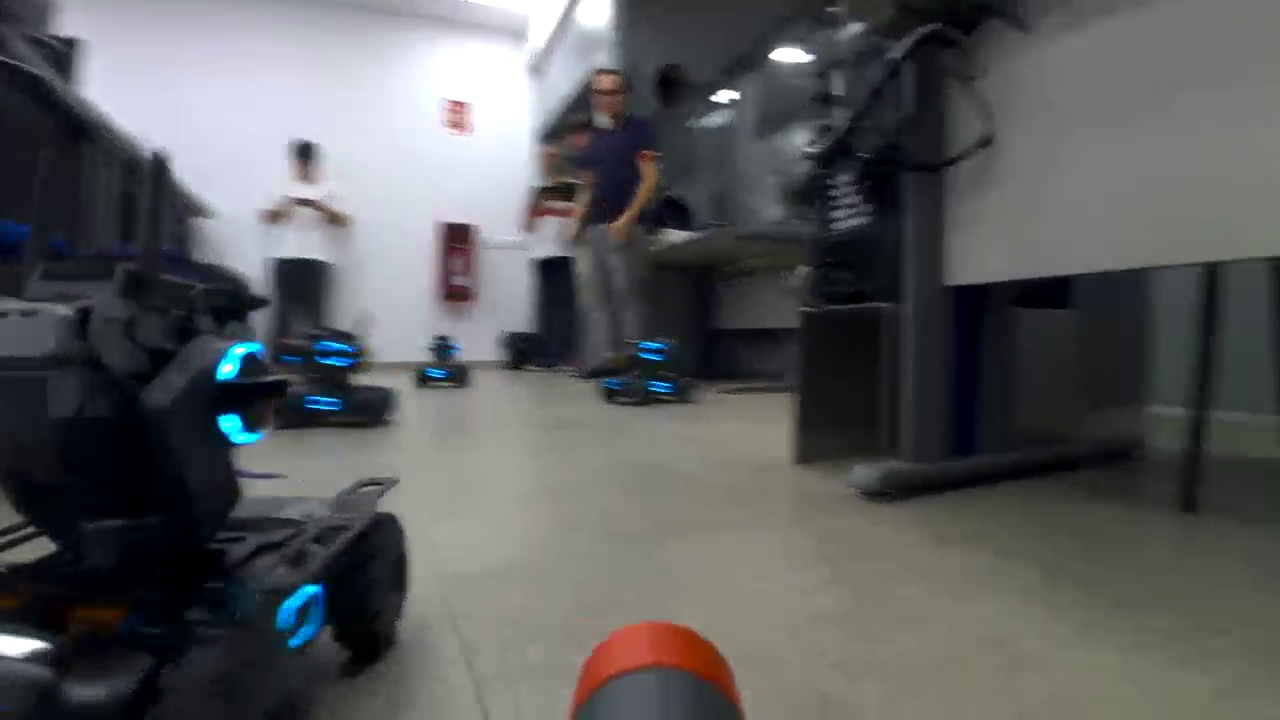robot: (1, 251, 408, 720), (256, 318, 403, 429), (596, 329, 692, 412), (409, 327, 471, 395)
